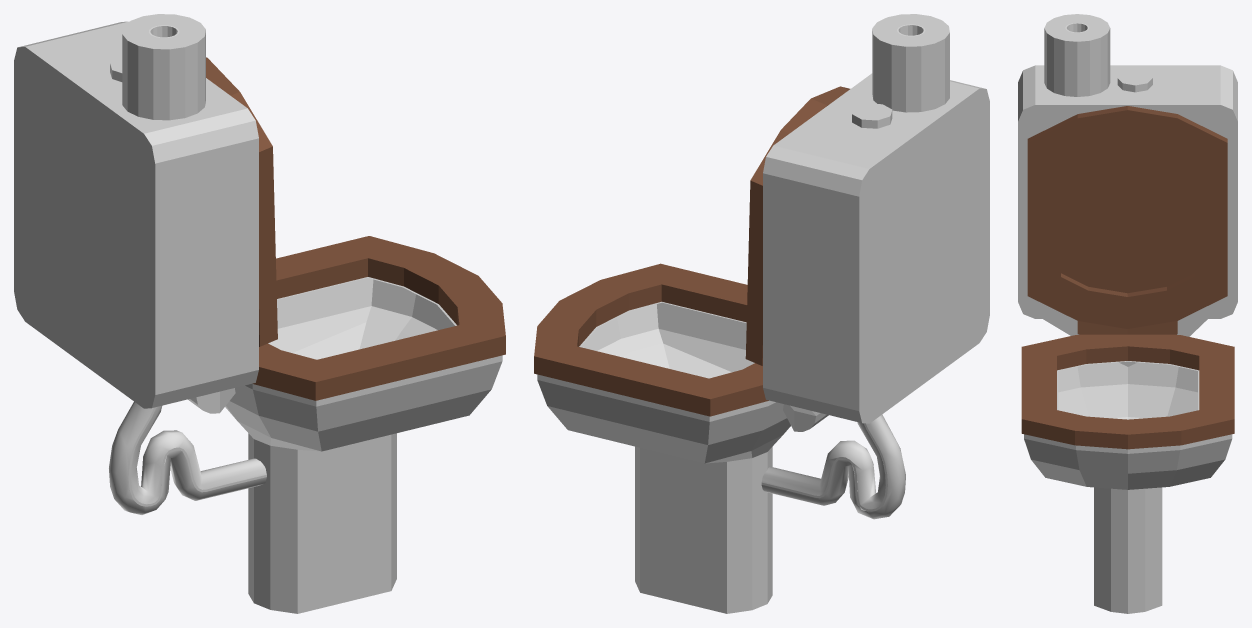
The model's file is Vater.fbx.
3 views of the same model, side by side, from view 1: azimuth 30°, elevation 25°; view 2: azimuth 150°, elevation 25°; view 3: azimuth 270°, elevation 25° (orthographic). The views are drawn at different scales.
Parts seen in each view (by area): view 1: Cistern, Toiletbowl, Seat, BezierCurve, Cylinder.005, lid; view 2: Cistern, Toiletbowl, Seat, BezierCurve, Cylinder.005, lid, Cylinder.001; view 3: lid, Toiletbowl, Seat, Cistern, Cylinder.005, Cylinder.001.
Boxes of the visible parts, x1,y1,x2,y2 form: Cistern: [14, 21, 258, 413]; Toiletbowl: [225, 277, 502, 613]; Seat: [252, 236, 505, 400]; BezierCurve: [109, 401, 266, 514]; Cylinder.005: [122, 14, 205, 120]; lid: [206, 57, 277, 346]; Cistern: [763, 73, 989, 431]; Toiletbowl: [537, 301, 790, 613]; Seat: [534, 263, 768, 416]; BezierCurve: [761, 414, 905, 519]; Cylinder.005: [872, 14, 949, 112]; lid: [745, 86, 849, 365]; Cylinder.001: [852, 103, 892, 128]; lid: [1027, 106, 1227, 334]; Toiletbowl: [1024, 361, 1232, 613]; Seat: [1021, 334, 1234, 449]; Cistern: [1018, 65, 1237, 366]; Cylinder.005: [1044, 14, 1110, 96]; Cylinder.001: [1117, 70, 1152, 92].
Size of the model in its own units: 34.73 by 56 by 85.45.
